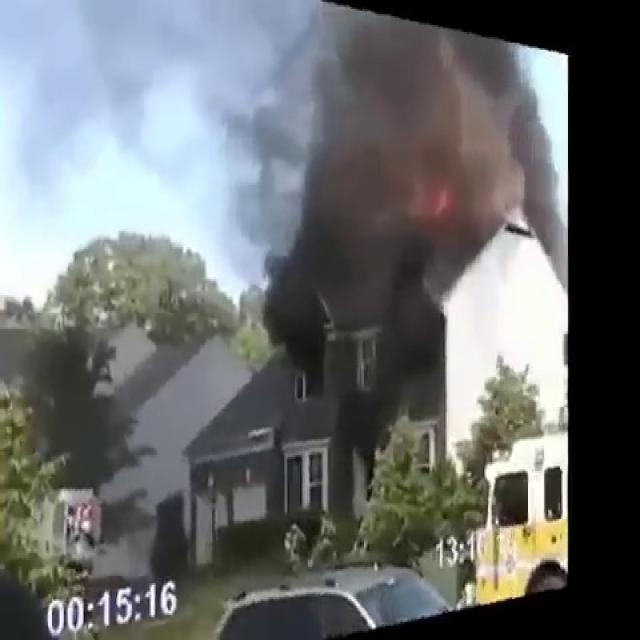Smoke: (256, 12, 566, 364)
